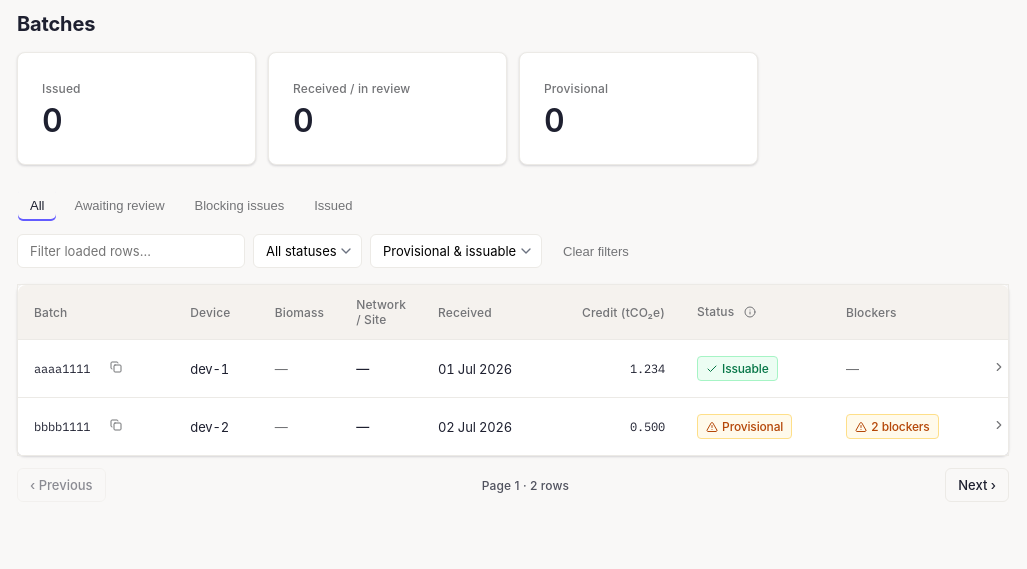
Batches page › page-local search empty copy differs from global empty
Expected: the text "dev-1" is shown, 174,340 -> 259,398
Type "no-such-device" into the field named "Filter loaded rows by batch or device" at [131, 251], box 17,234 -> 245,268
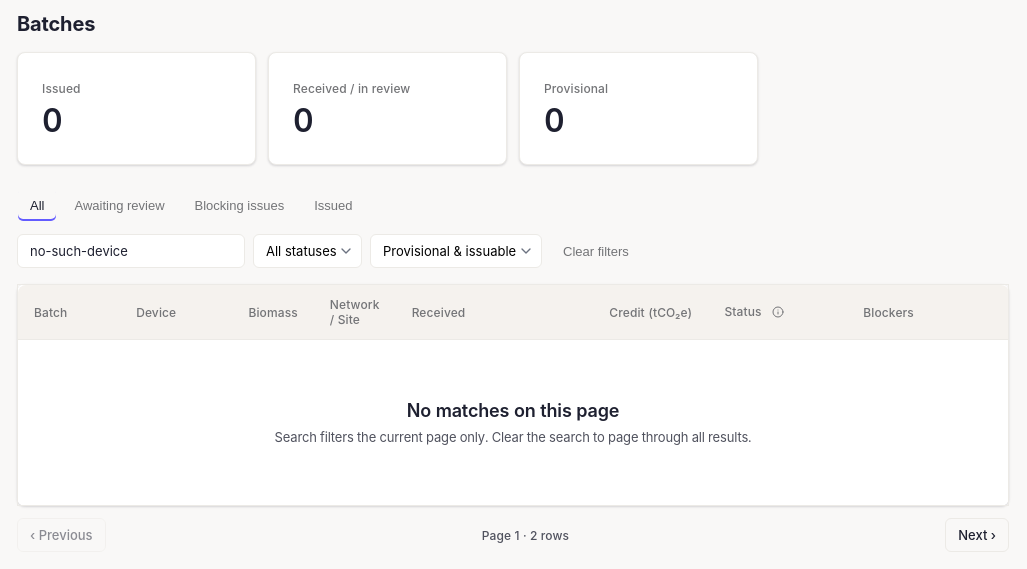
Now the text "No matches on this page" is shown, box 407,400 -> 619,421
Now the text "Clear the search to page through all results" is shown, box 274,429 -> 751,445
